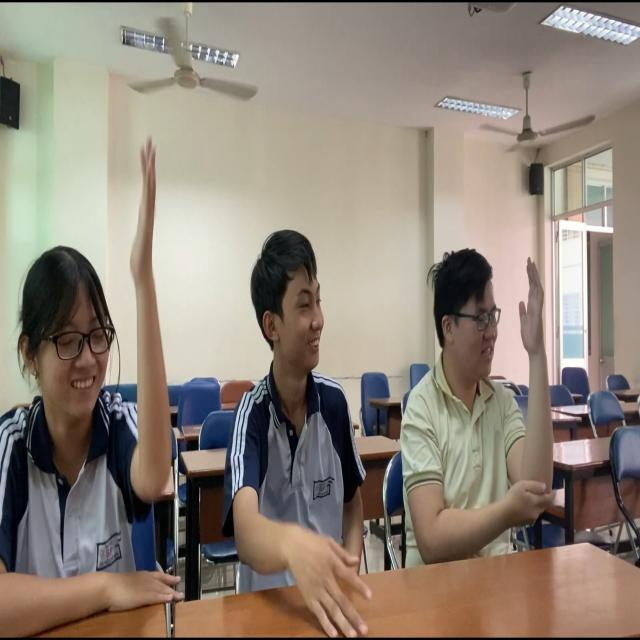raise_hand: (1, 107, 195, 640), (378, 204, 566, 611)
